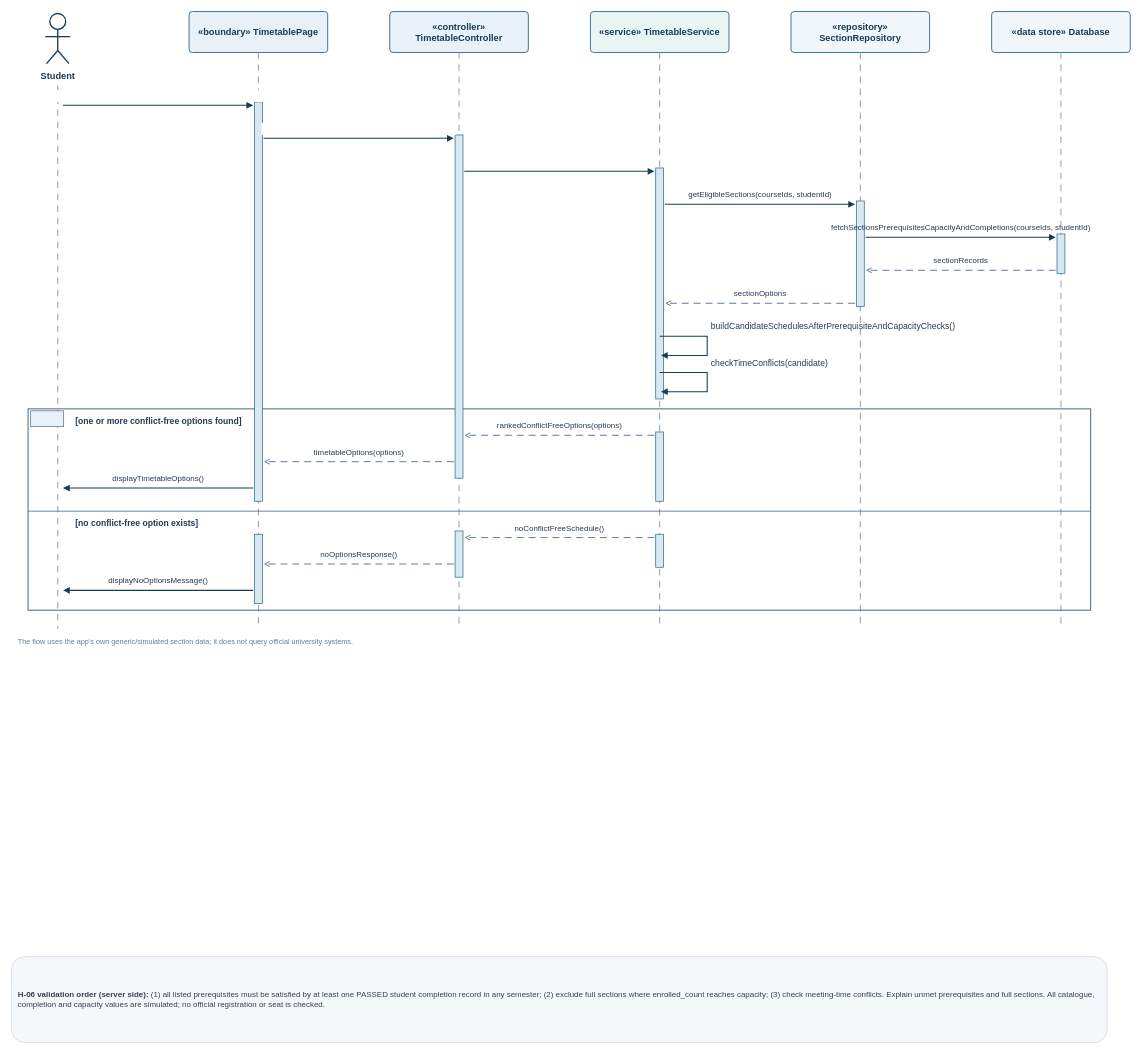
This 1142x1055 diagram has some shape labels left out. The centre of each missing label's shape, as x and y in pixels:
"alt" goes at (x=47, y=418).
"generateOptions(studentId, courseIds, preferences)" goes at (x=559, y=162).
"generateTimetable(courseIds, preferences)" goes at (x=358, y=129).
"selectCoursesAndAvailability(courseIds, preferences)" goes at (x=158, y=96).
